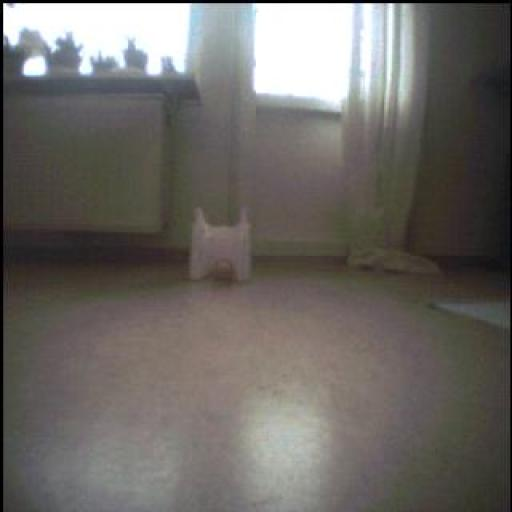Basket: (212, 259, 238, 284)
